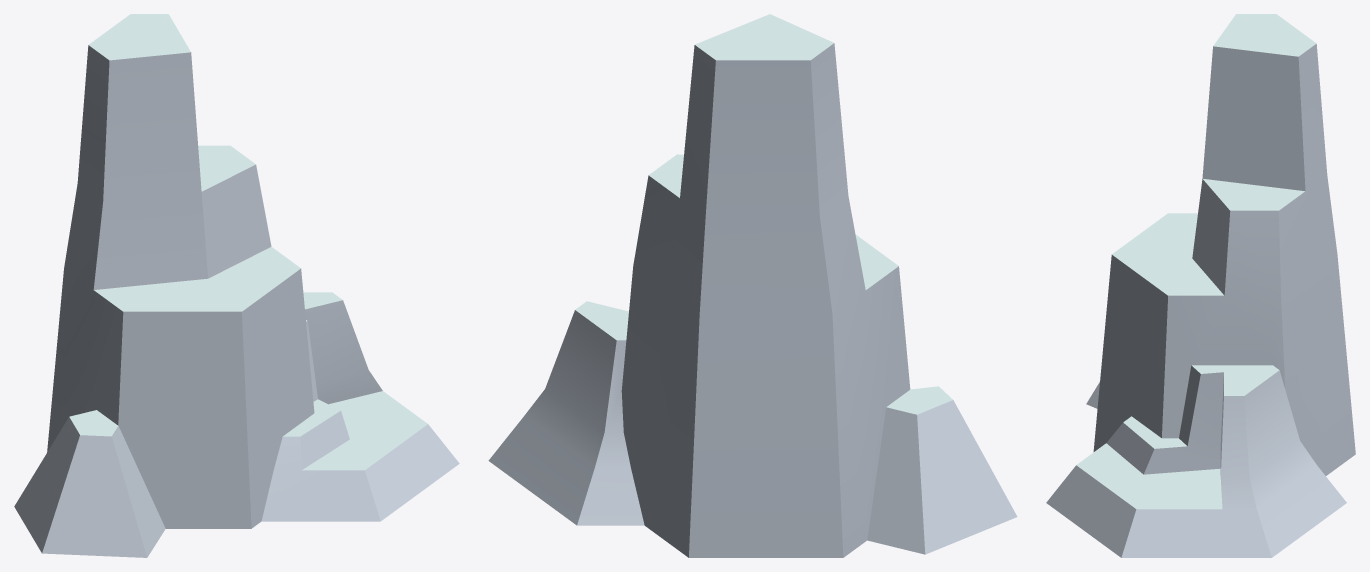
File: rockFormationLarge.glb
3 renders of one model, left to right at view 1: azimuth 30°, elevation 25°; view 2: azimuth 150°, elevation 25°; view 3: azimuth 270°, elevation 25°, orthographic. The views are drawn at different scales.
Parts seen in each view (by area): view 1: rockFormationLarge(Clone); view 2: rockFormationLarge(Clone); view 3: rockFormationLarge(Clone).
Boxes of the visible parts, left/top/right/bottom form: rockFormationLarge(Clone): left=14, top=14, right=459, bottom=557; rockFormationLarge(Clone): left=488, top=14, right=1017, bottom=557; rockFormationLarge(Clone): left=1046, top=14, right=1355, bottom=557.
Bounding box in the file's own units: 0.9231 × 0.9352 × 0.6416.
